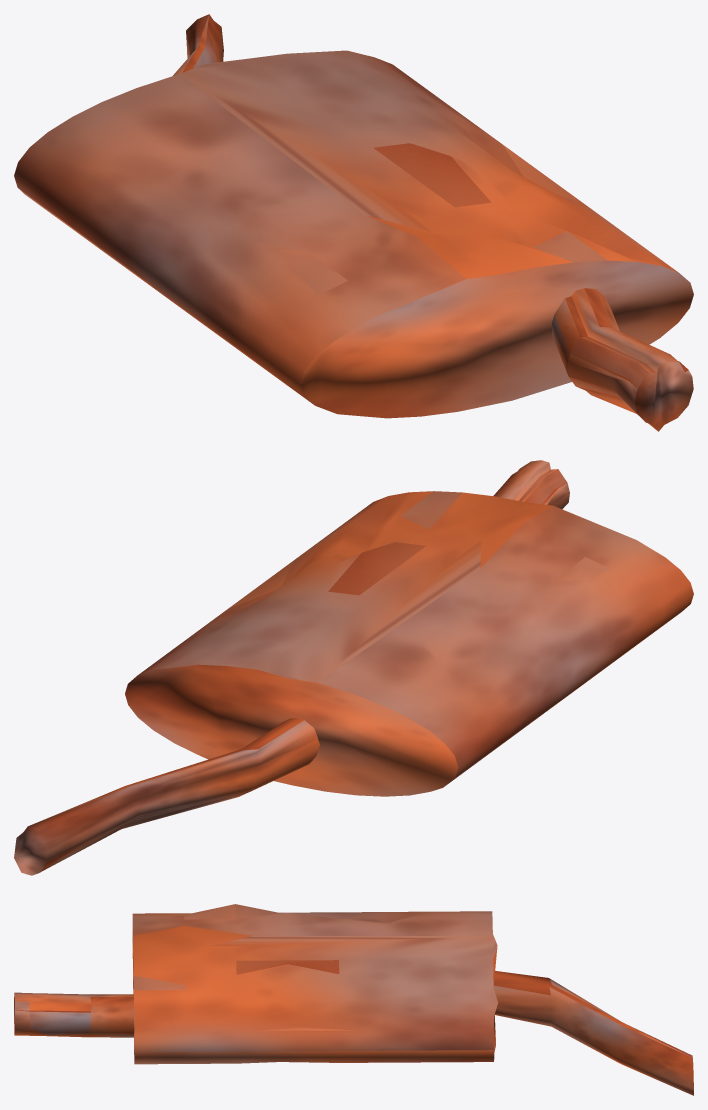
File: muffler.fbx
The picture shows the model from 3 angles, top to bottom: view 1: azimuth 30°, elevation 25°; view 2: azimuth 150°, elevation 25°; view 3: azimuth 270°, elevation 25°; orthographic projection. The views are drawn at different scales.
Parts seen in each view (by area): view 1: Cylinder.001; view 2: Cylinder.001; view 3: Cylinder.001.
Boxes of the visible parts, x1=… form: Cylinder.001: x1=14, y1=14, x2=693, y2=431; Cylinder.001: x1=14, y1=460, x2=693, y2=875; Cylinder.001: x1=14, y1=904, x2=693, y2=1095.
Size of the model in its own units: 109 by 45.08 by 253.
